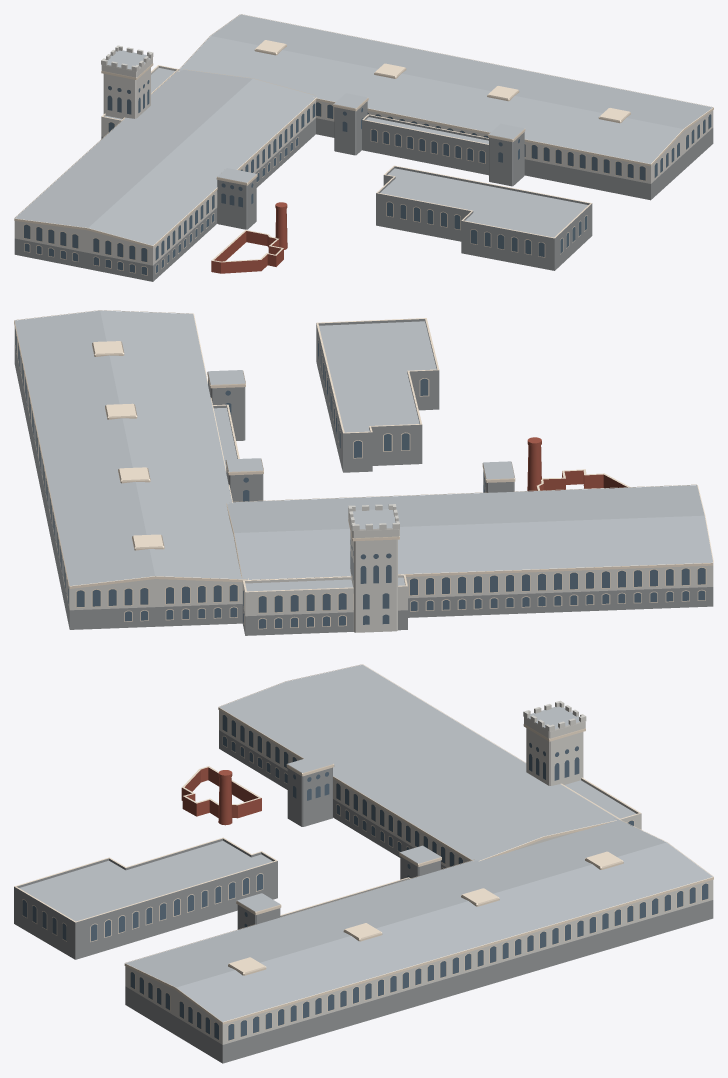
The model's file is detail.glb.
The picture shows the model from 3 angles, top to bottom: view 1: azimuth 30°, elevation 25°; view 2: azimuth 150°, elevation 25°; view 3: azimuth 270°, elevation 25°; orthographic projection. The views are drawn at different scales.
Parts seen in each view (by area): view 1: highland-park-mill-no-3; view 2: highland-park-mill-no-3; view 3: highland-park-mill-no-3.
Part boxes in pixels (left/top/right/bottom): highland-park-mill-no-3: left=14, top=14, right=713, bottom=281; highland-park-mill-no-3: left=14, top=310, right=713, bottom=635; highland-park-mill-no-3: left=14, top=664, right=713, bottom=1063.
Size of the model in its own units: 189 by 25.2 by 156.
